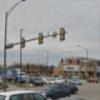traffic lights: (60, 28, 66, 40)
